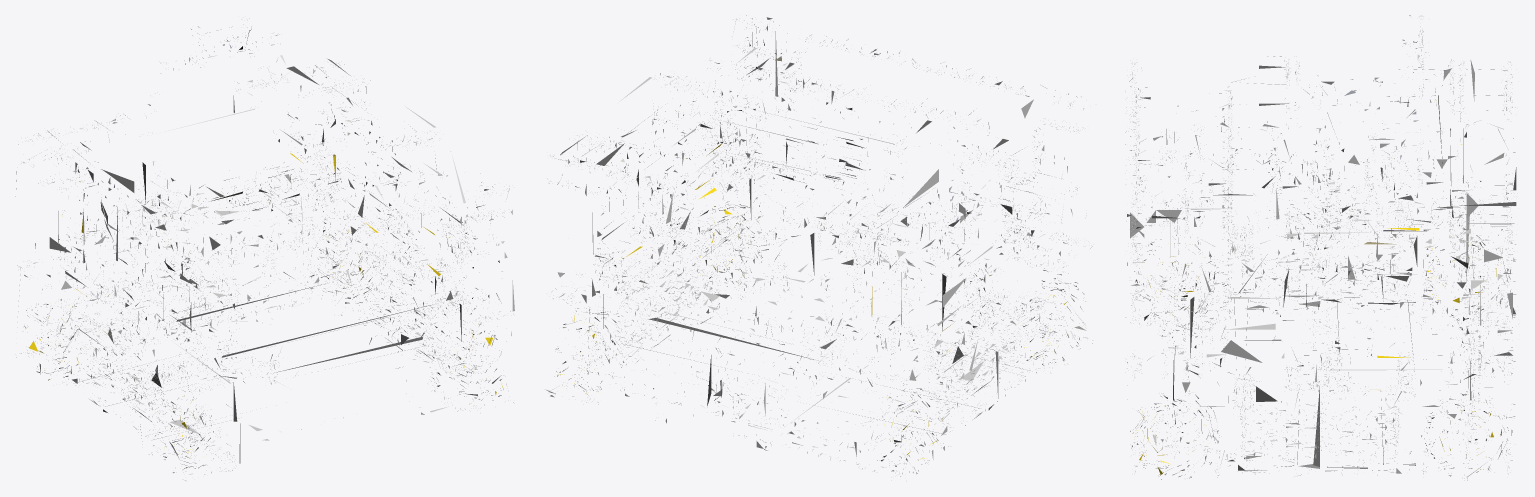
The model's file is Assembly 1 - Decode-fresh.glb.
The picture shows the model from 3 angles, left to right: view 1: azimuth 30°, elevation 25°; view 2: azimuth 150°, elevation 25°; view 3: azimuth 270°, elevation 25°; orthographic projection. The views are drawn at different scales.
Parts seen in each view (by area): view 1: world; view 2: world; view 3: world.
Part boxes in pixels (box(x1,y1,x2,y2)): world: box(15, 26, 514, 480); world: box(546, 15, 1095, 481); world: box(1125, 15, 1518, 480).
Bounding box in the file's own units: 0.4411 × 0.4271 × 0.4133.
